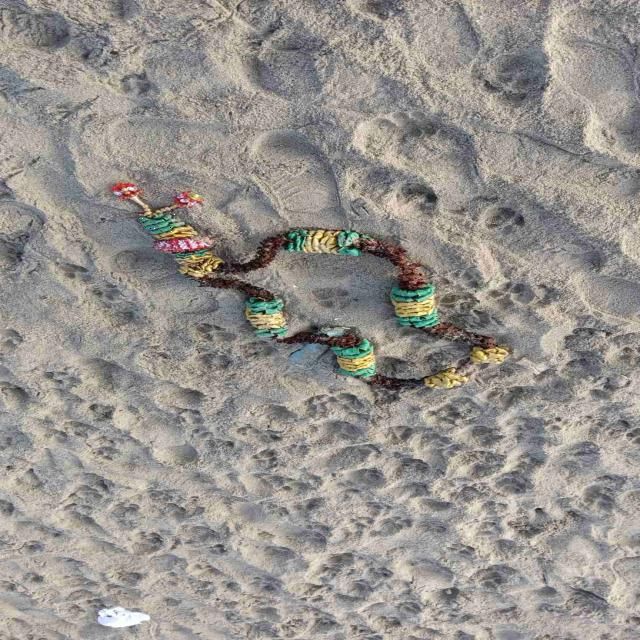wrapper: (139, 213, 183, 235)
